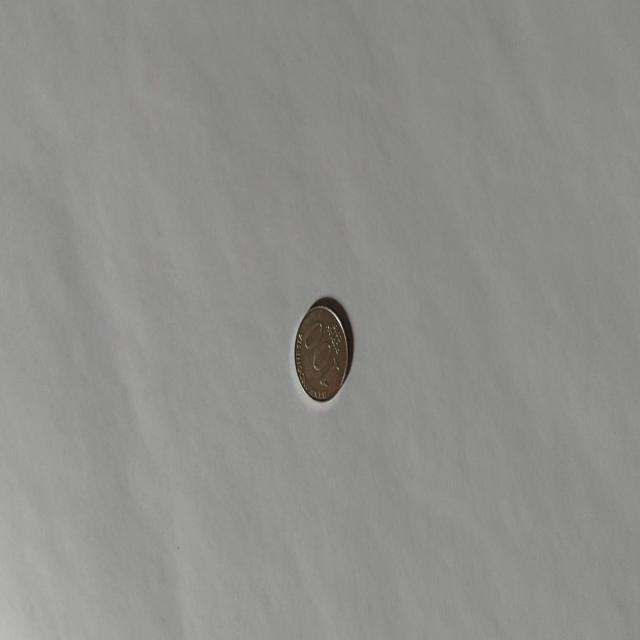seratus rupiah: (294, 301, 348, 403)
